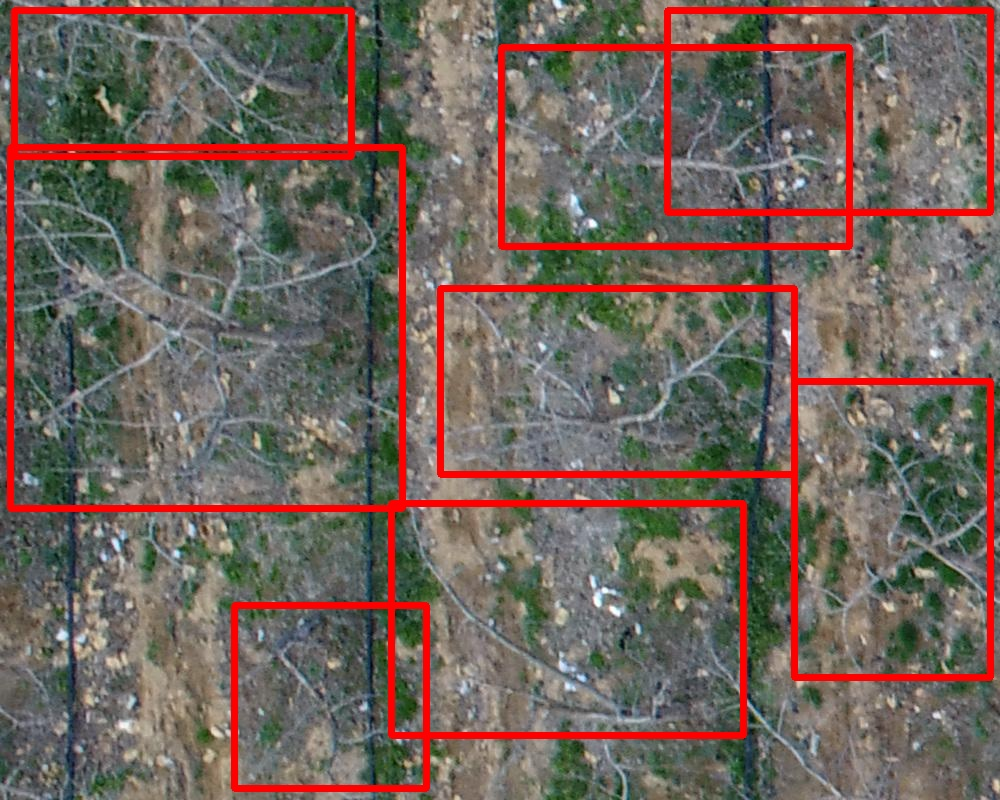apple: (10, 147, 402, 508), (391, 503, 743, 735), (501, 47, 849, 246), (440, 288, 794, 474), (667, 10, 990, 212), (794, 381, 990, 677), (14, 10, 351, 156), (234, 605, 426, 788)
